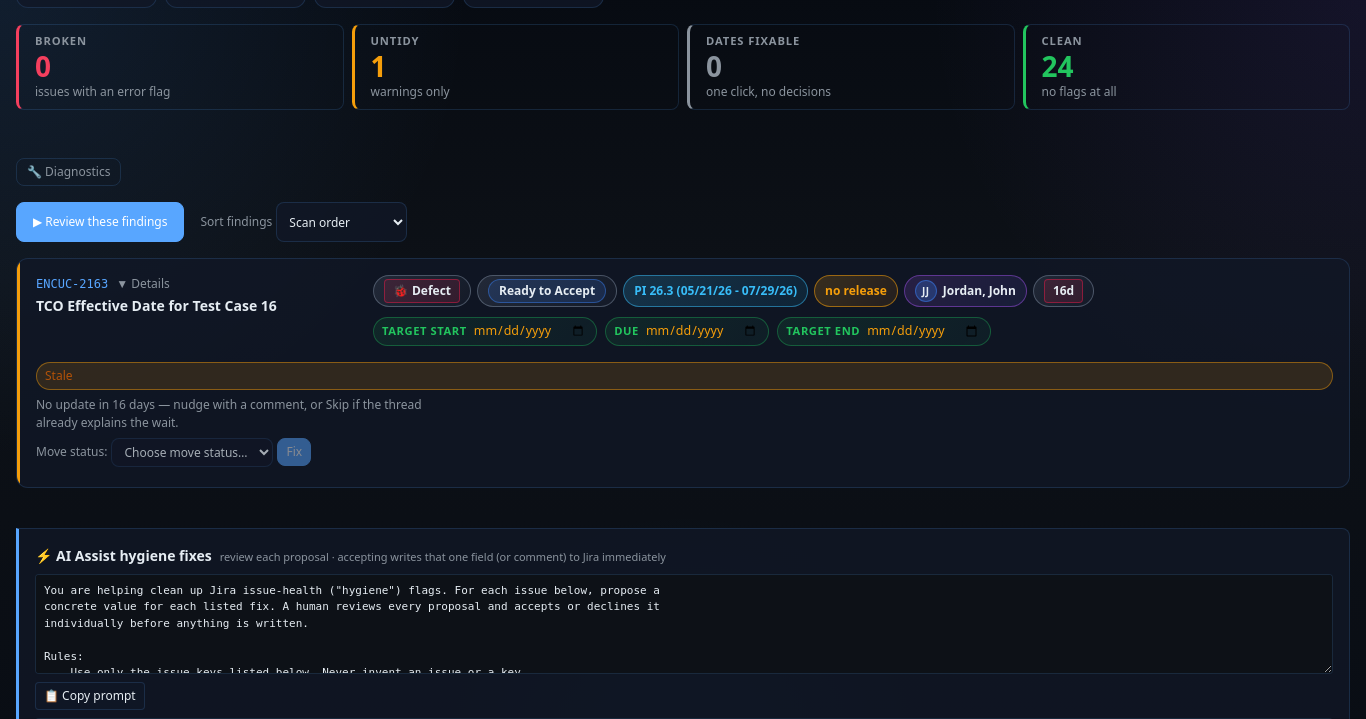
Test: HygieneView › passes resolved AC, PI, sprint, and feature context to the expanded detail panel
(page scrolled)
Click the button "TCO Effective Date" at coordinates (683, 473), box [17,259,1349,487]
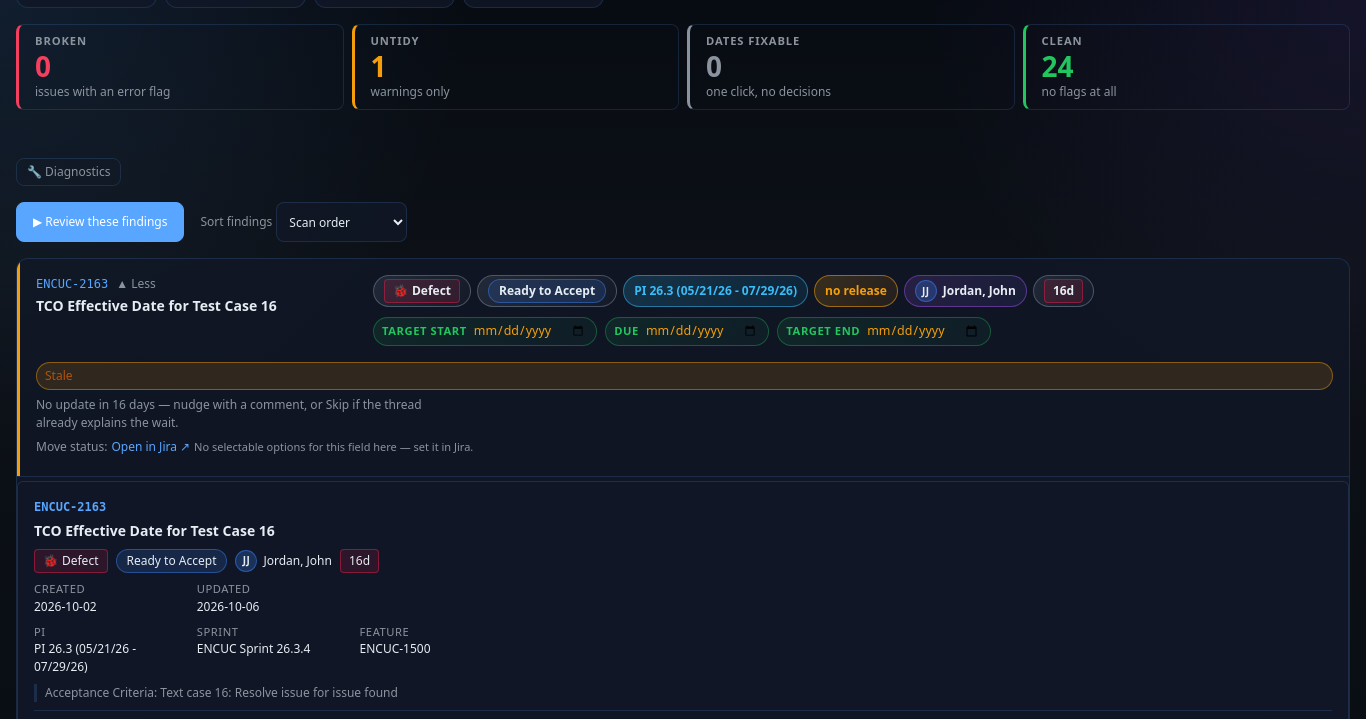
Result: the text "Text case 16: Resolve issue for issue found" is shown at [160,684,398,702]
Result: the text "ENCUC Sprint 26.3.4" is shown at [197,640,310,658]
Result: the text "ENCUC-1500" is shown at [360,640,431,658]
